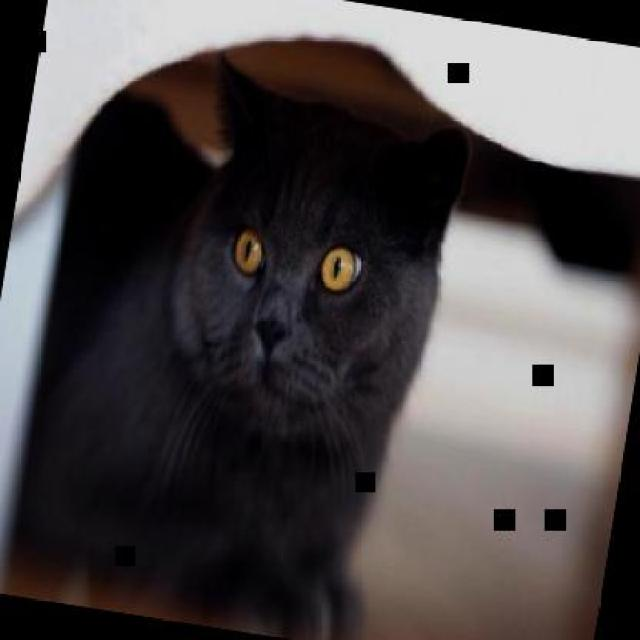cat: (1, 31, 478, 638)
